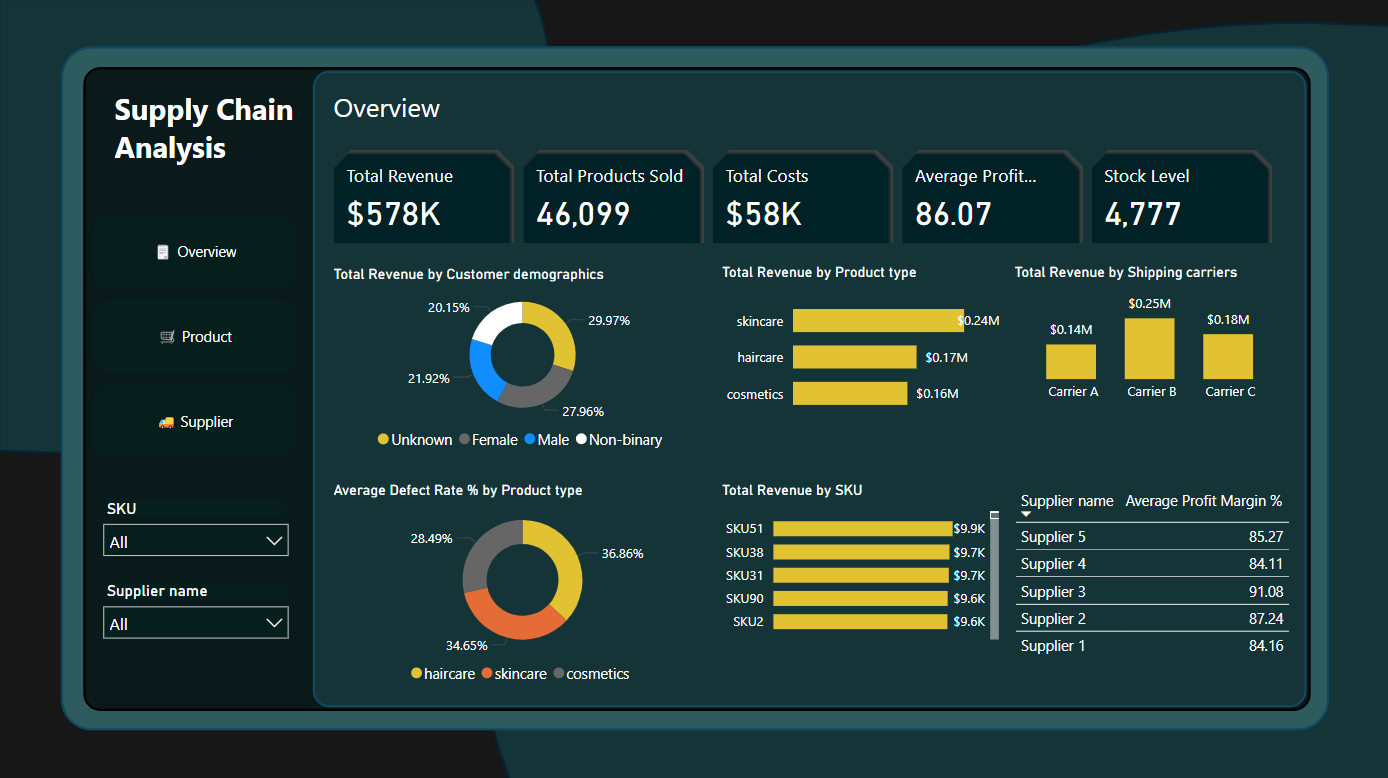

The page's visual inventory and layout, read from the dashboard file:
{"tool":"powerbi","page":{"name":"🗒️ Overview","canvas":[1280,720],"ordinal":0},"visuals":[{"type":"cardVisual","fields":{"Data":["_Measures.Total Revenue","_Measures.Total Products Sold","_Measures.Total Costs","_Measures.Average Profit Margin %","_Measures.Stock Level"]},"box":[303.3,135,876.7,96.7],"z":0},{"type":"donutChart","fields":{"Y":["_Measures.Total Revenue"],"Category":["supply_chain_data.Customer demographics"]},"box":[303.3,246.7,356.7,178.3],"z":1000},{"type":"donutChart","fields":{"Y":["_Measures.Average Defect Rate %"],"Category":["supply_chain_data.Product type"]},"box":[303.3,445,356.7,195],"z":2000},{"type":"clusteredBarChart","fields":{"Y":["_Measures.Total Revenue"],"Category":["supply_chain_data.Product type"]},"box":[660.2,245.3,265,149.9],"z":3000},{"type":"clusteredBarChart","fields":{"Y":["_Measures.Total Revenue"],"Category":["supply_chain_data.SKU"]},"box":[660,445.6,264.4,150],"z":4000},{"type":"columnChart","fields":{"Category":["supply_chain_data.Shipping carriers"],"Y":["_Measures.Total Revenue"]},"box":[928.9,245.6,262.2,135.6],"z":5000},{"type":"tableEx","fields":{"Values":["supply_chain_data.Supplier name","_Measures.Average Profit Margin %"]},"box":[928.9,445.6,262.2,173.3],"z":6000},{"type":"pageNavigator","box":[87.1,200,188.6,225.7],"z":7000},{"type":"slicer","fields":{"Values":["supply_chain_data.SKU"]},"box":[86.7,456.7,190,63.3],"z":8000},{"type":"slicer","fields":{"Values":["supply_chain_data.Supplier name"]},"box":[86.7,531.7,190,63.3],"z":9000},{"type":"textbox","box":[101.7,78.3,175,105],"z":10000},{"type":"textbox","box":[303.3,78.3,313.3,41.7],"z":11000}]}

Visuals, with their boxes in screenshot pixels (x1, y1, x2, y2), scaled from the page's 1280x720 canvas onto the 1388x778 screenshot:
cardVisual - _Measures.Total Revenue x _Measures.Total Products Sold: select_region(329, 146, 1280, 250)
donutChart - _Measures.Total Revenue x supply_chain_data.Customer demographics: select_region(329, 267, 716, 459)
donutChart - _Measures.Average Defect Rate % x supply_chain_data.Product type: select_region(329, 481, 716, 692)
clusteredBarChart - _Measures.Total Revenue x supply_chain_data.Product type: select_region(716, 265, 1003, 427)
clusteredBarChart - _Measures.Total Revenue x supply_chain_data.SKU: select_region(716, 481, 1002, 644)
columnChart - supply_chain_data.Shipping carriers x _Measures.Total Revenue: select_region(1007, 265, 1292, 412)
tableEx - supply_chain_data.Supplier name x _Measures.Average Profit Margin %: select_region(1007, 481, 1292, 669)
pageNavigator: select_region(94, 216, 299, 460)
slicer - supply_chain_data.SKU: select_region(94, 493, 300, 562)
slicer - supply_chain_data.Supplier name: select_region(94, 575, 300, 643)
textbox: select_region(110, 85, 300, 198)
textbox: select_region(329, 85, 669, 130)
